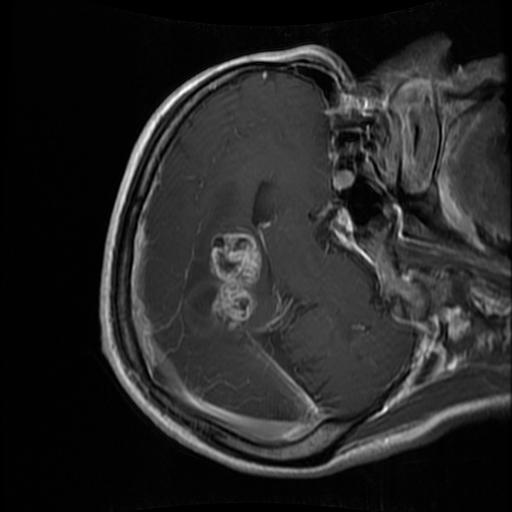glioma: (208, 231, 261, 333)
